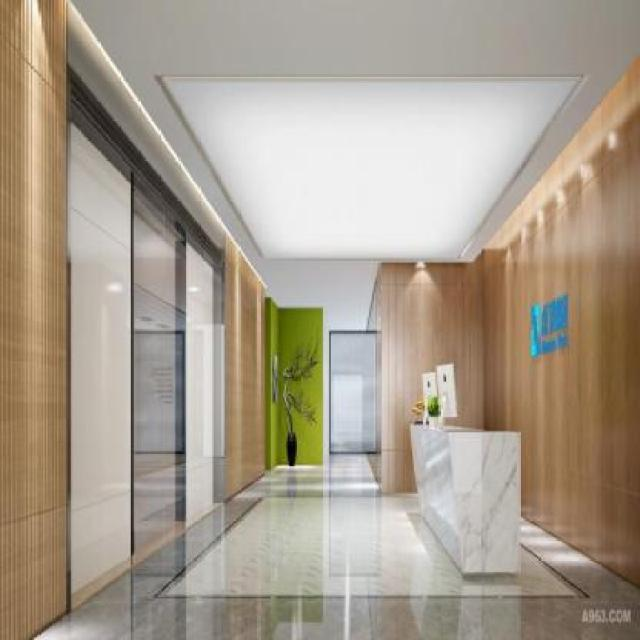frontdesk: (408, 410, 525, 588)
